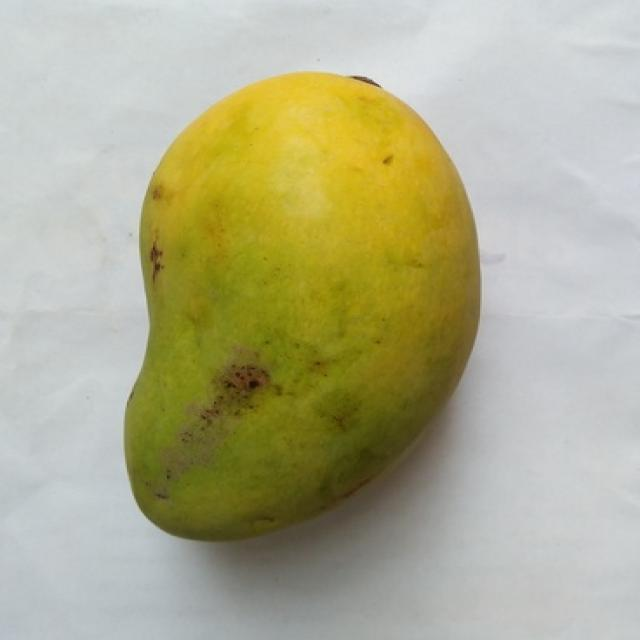Mango: (125, 73, 478, 540)
